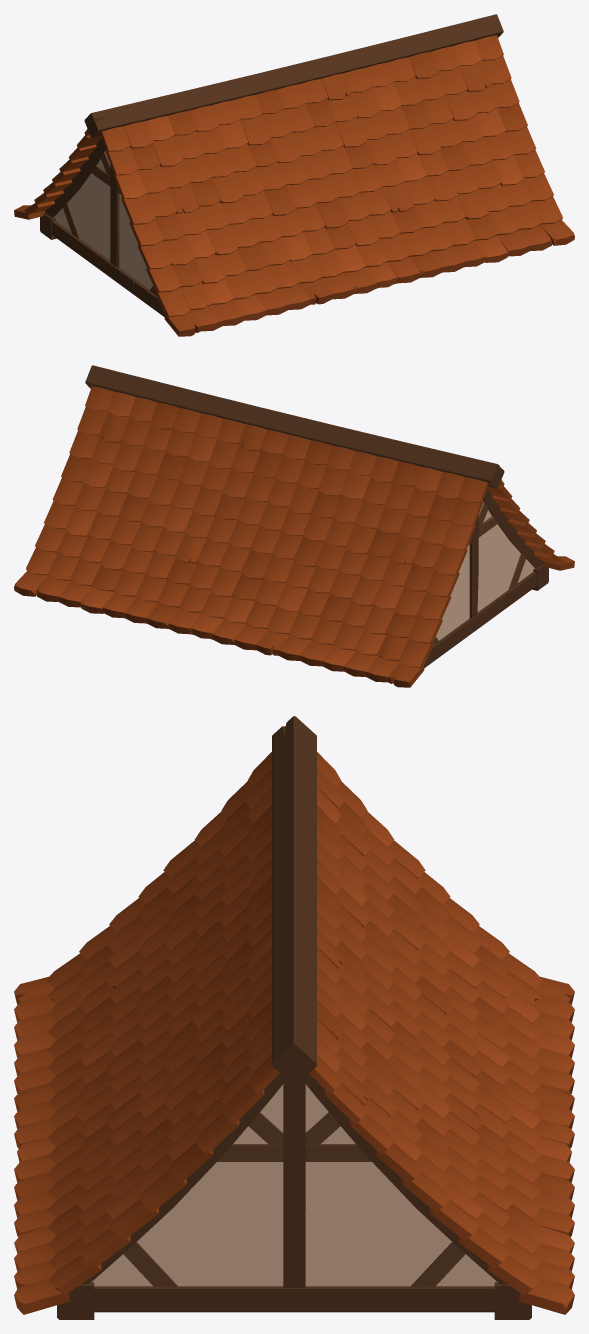
The model's file is HouseRoof_03.glb.
3 renders of one model, top to bottom at view 1: azimuth 30°, elevation 25°; view 2: azimuth 150°, elevation 25°; view 3: azimuth 270°, elevation 25°, orthographic. The views are drawn at different scales.
Parts seen in each view (by area): view 1: HouseRoof_03_LOD0; view 2: HouseRoof_03_LOD0; view 3: HouseRoof_03_LOD0.
Boxes of the visible parts, x1=… form: HouseRoof_03_LOD0: x1=14, y1=14, x2=574, y2=336; HouseRoof_03_LOD0: x1=14, y1=365, x2=574, y2=687; HouseRoof_03_LOD0: x1=14, y1=716, x2=574, y2=1319.
Size of what is drawn, in the model's own units: 8.7 by 3.6 by 6.28.
Materials: 1 (1 with a texture image).
